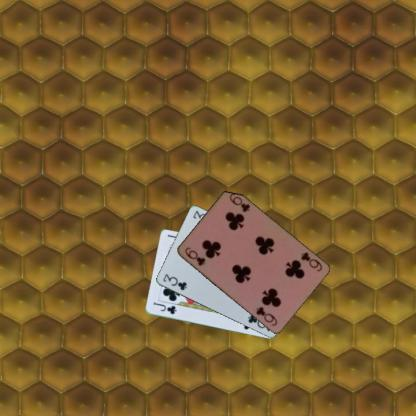3c: (160, 272, 188, 292)
6c: (182, 244, 206, 268), (298, 250, 323, 272)
Jc: (151, 300, 177, 315)
